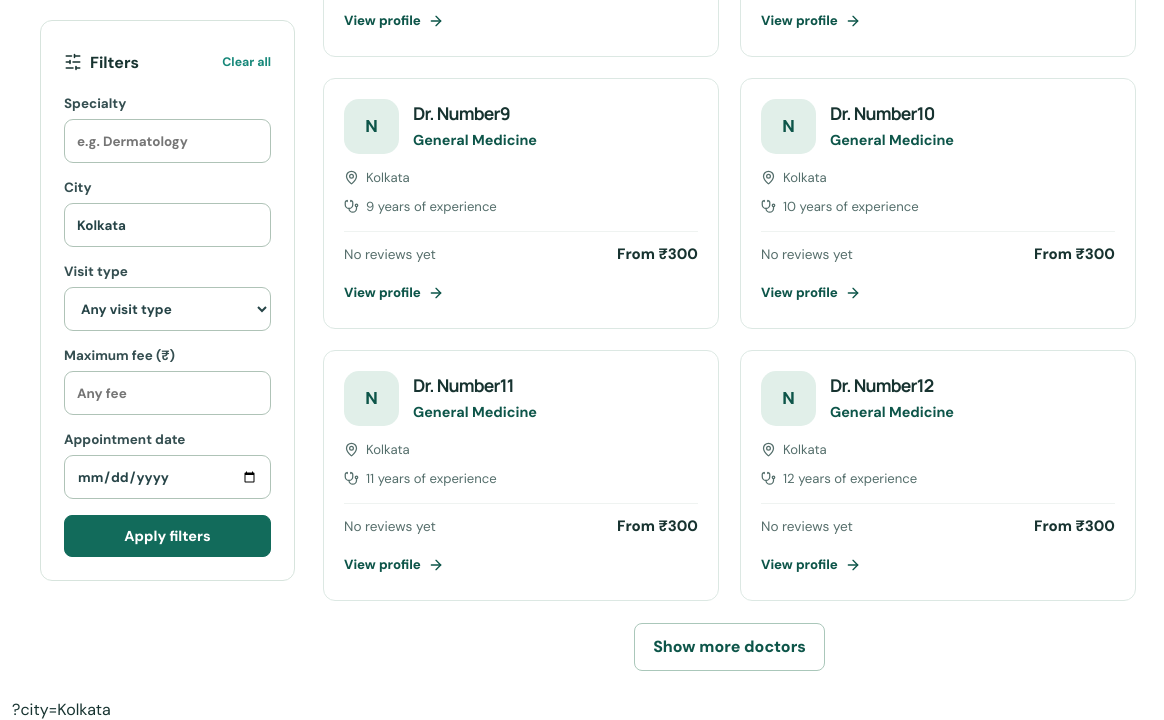
Scenario: doctor directory › shows a page of results, tells the user there are more, and loads the next page on request
(page scrolled)
Click the button "Show more doctors".
click(730, 646)  # box [634, 622, 825, 670]
(page scrolled)
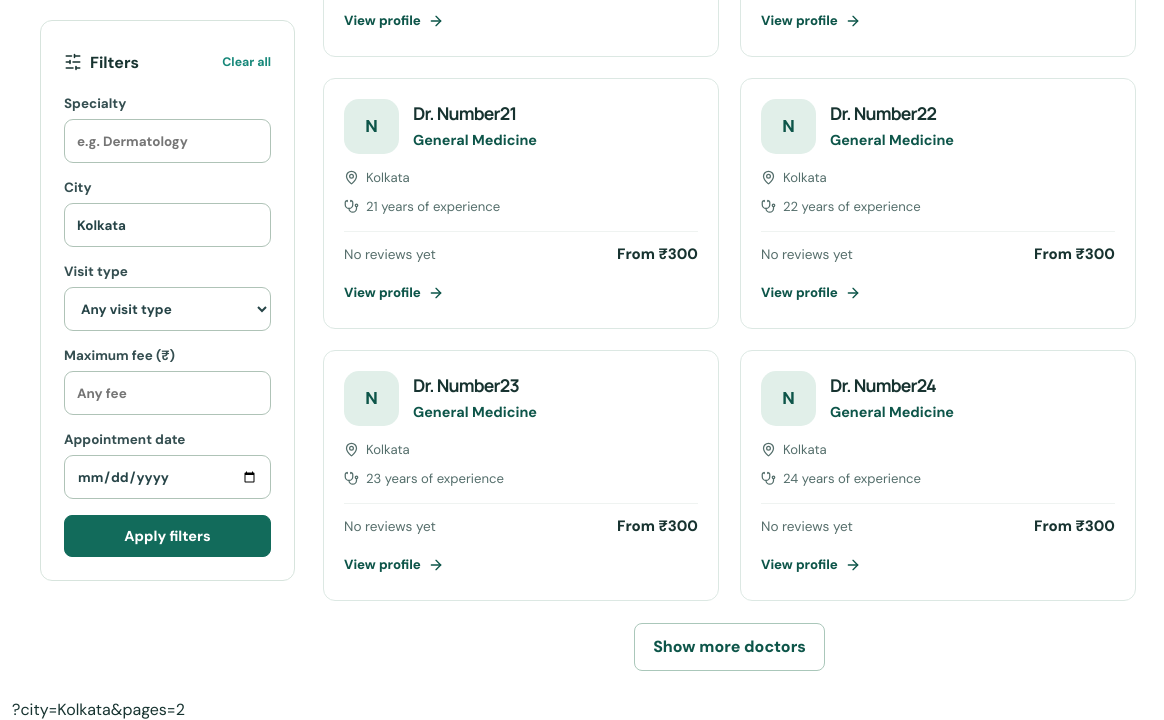
Result: the text with test id "search" shows "pages=2" at [12, 698, 185, 719]
